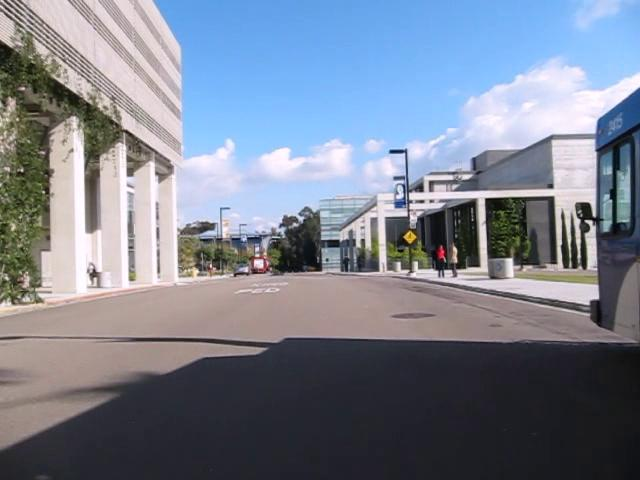pedestrianCrossing: (402, 229, 417, 244)
